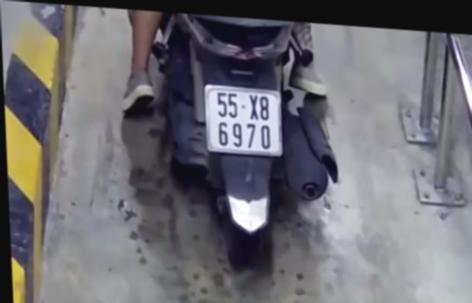License_Plate: (197, 78, 292, 161)
